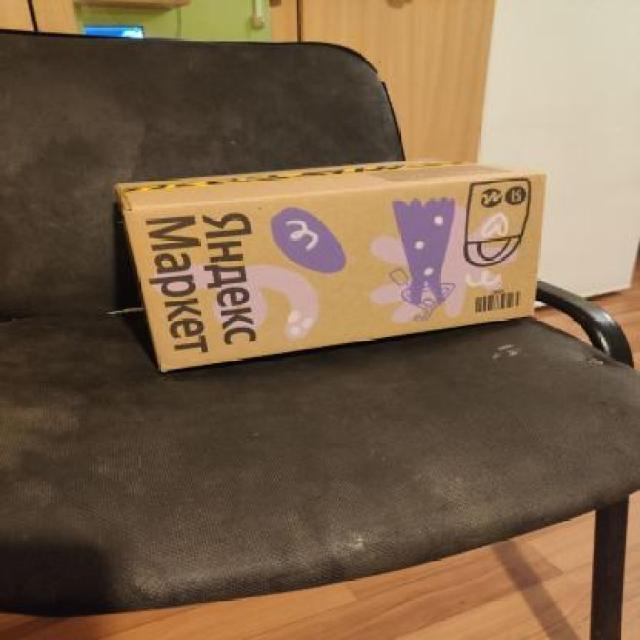box: (109, 144, 557, 393)
